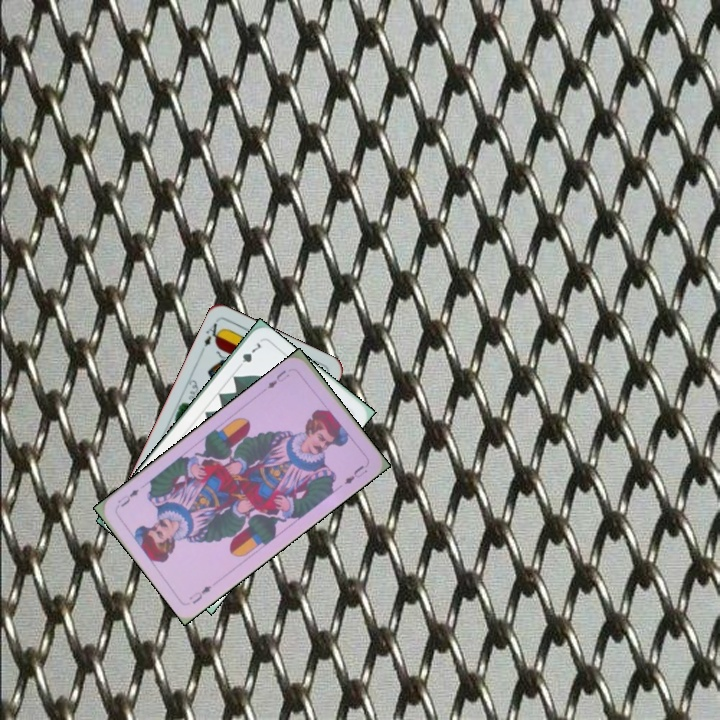EA: (200, 319, 226, 349)
EU: (185, 581, 214, 607), (263, 366, 292, 391)
G7: (233, 338, 264, 372)
